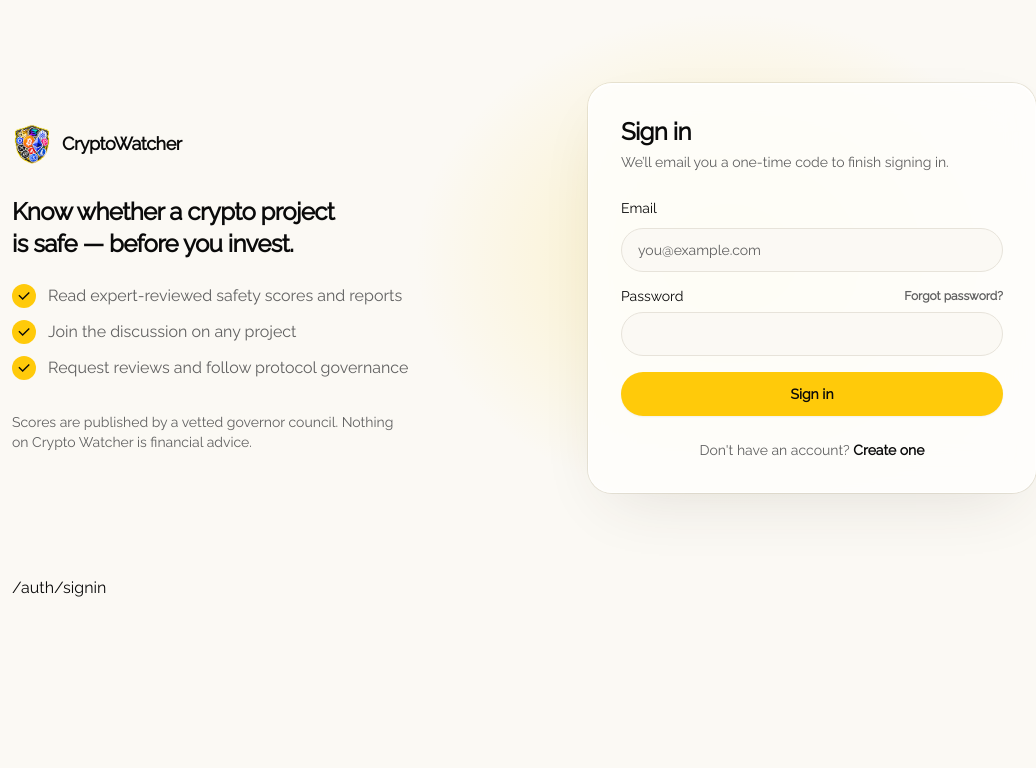
Test: SignInPage › shows an inline error for incorrect credentials
Type "ada@example.com" into the field labelled "Email" at (812, 250), box [621,228,1003,272]
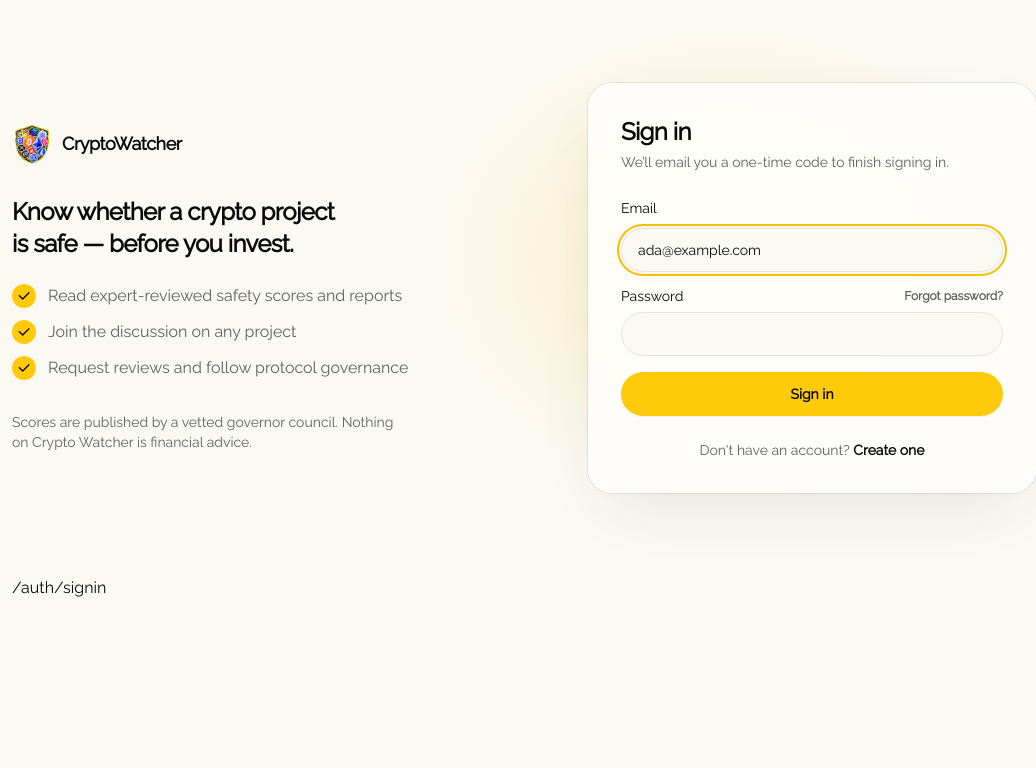
Type "secret-password" into the password field labelled "Password" at (812, 334), box [621,312,1003,356]
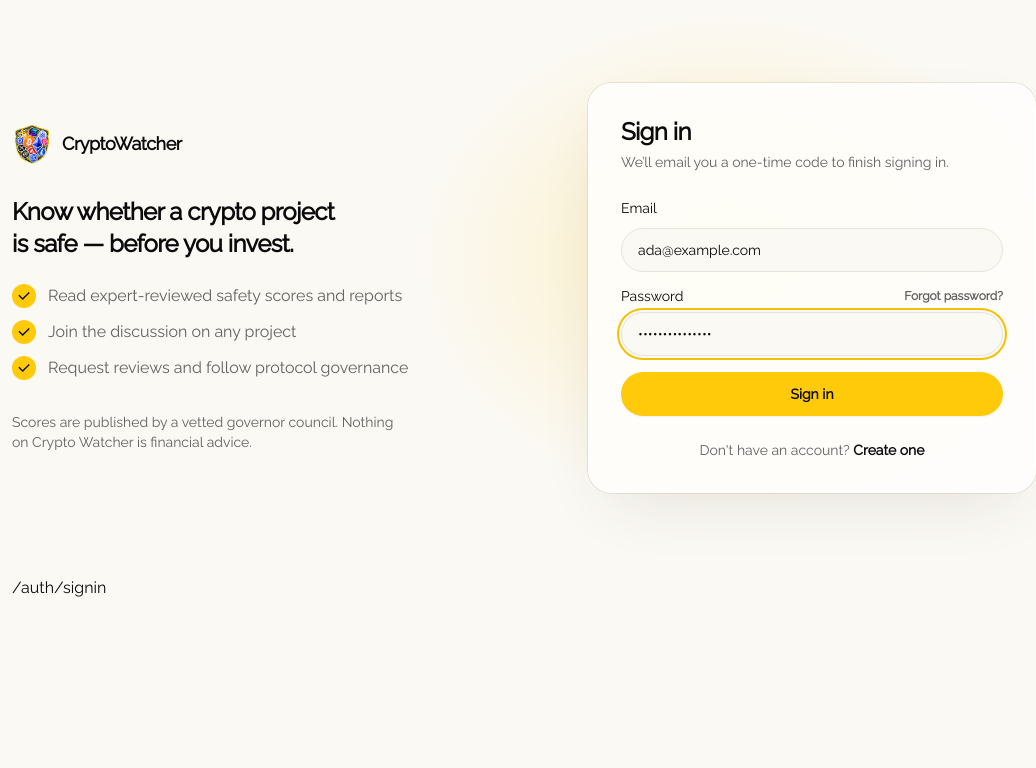
Click the button "Sign in" at (812, 394), box [621,372,1003,416]
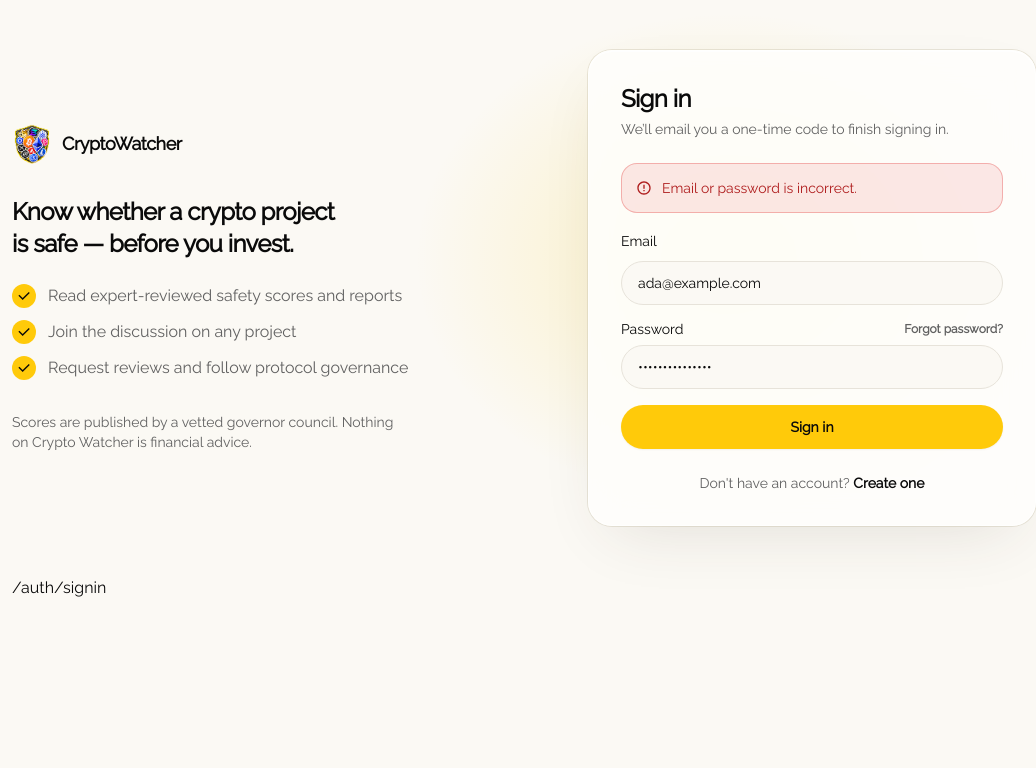
Check: the message reads "Email or password is incorrect.", box [662,180,857,196]
